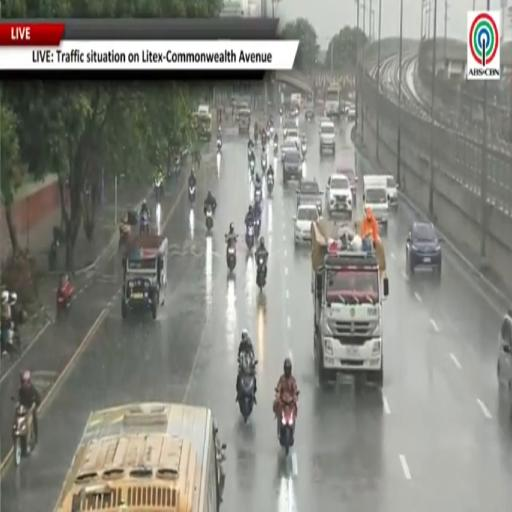bus: (55, 403, 225, 511)
car: (406, 221, 441, 276), (363, 175, 389, 232), (497, 310, 511, 412), (326, 174, 353, 218), (364, 175, 398, 209), (294, 204, 320, 245), (296, 179, 323, 215), (336, 165, 357, 205), (283, 150, 302, 184), (320, 122, 335, 156), (385, 175, 398, 209), (281, 140, 297, 162), (282, 117, 298, 139), (285, 128, 300, 147), (346, 104, 357, 122), (319, 117, 331, 133)
jeepney: (239, 108, 251, 134)
motorcycle: (12, 404, 35, 466), (238, 357, 257, 422), (278, 397, 296, 455), (48, 227, 65, 270), (0, 322, 20, 356), (57, 278, 74, 314), (256, 255, 266, 292), (48, 240, 59, 270), (119, 222, 131, 246), (227, 240, 236, 271), (246, 223, 254, 250), (154, 178, 163, 201), (140, 213, 149, 234), (206, 206, 213, 232), (267, 173, 274, 194), (254, 186, 262, 203), (254, 216, 260, 237), (189, 185, 196, 203), (261, 154, 267, 173), (301, 142, 306, 161), (249, 159, 254, 177), (305, 111, 313, 122), (248, 147, 253, 161), (217, 138, 221, 153), (274, 142, 278, 156)
tricycle: (57, 274, 74, 314)
truck: (312, 219, 389, 387), (122, 233, 168, 318), (297, 180, 323, 215), (196, 104, 212, 142), (325, 85, 342, 119)
